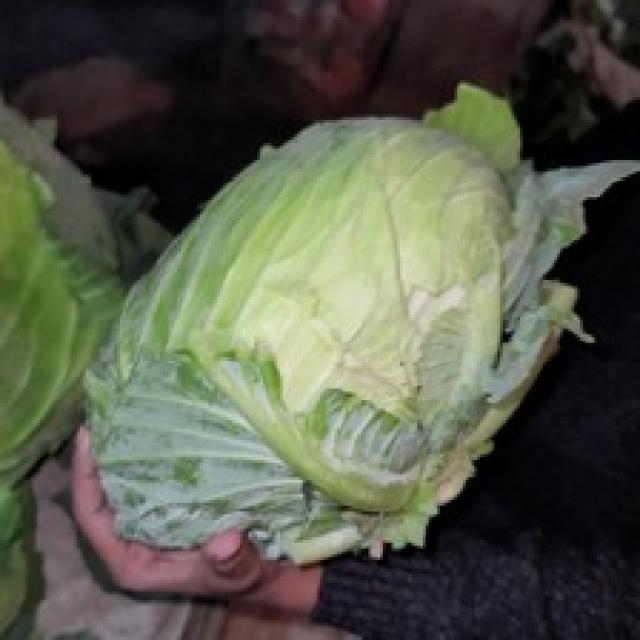organik: (74, 66, 629, 550)
